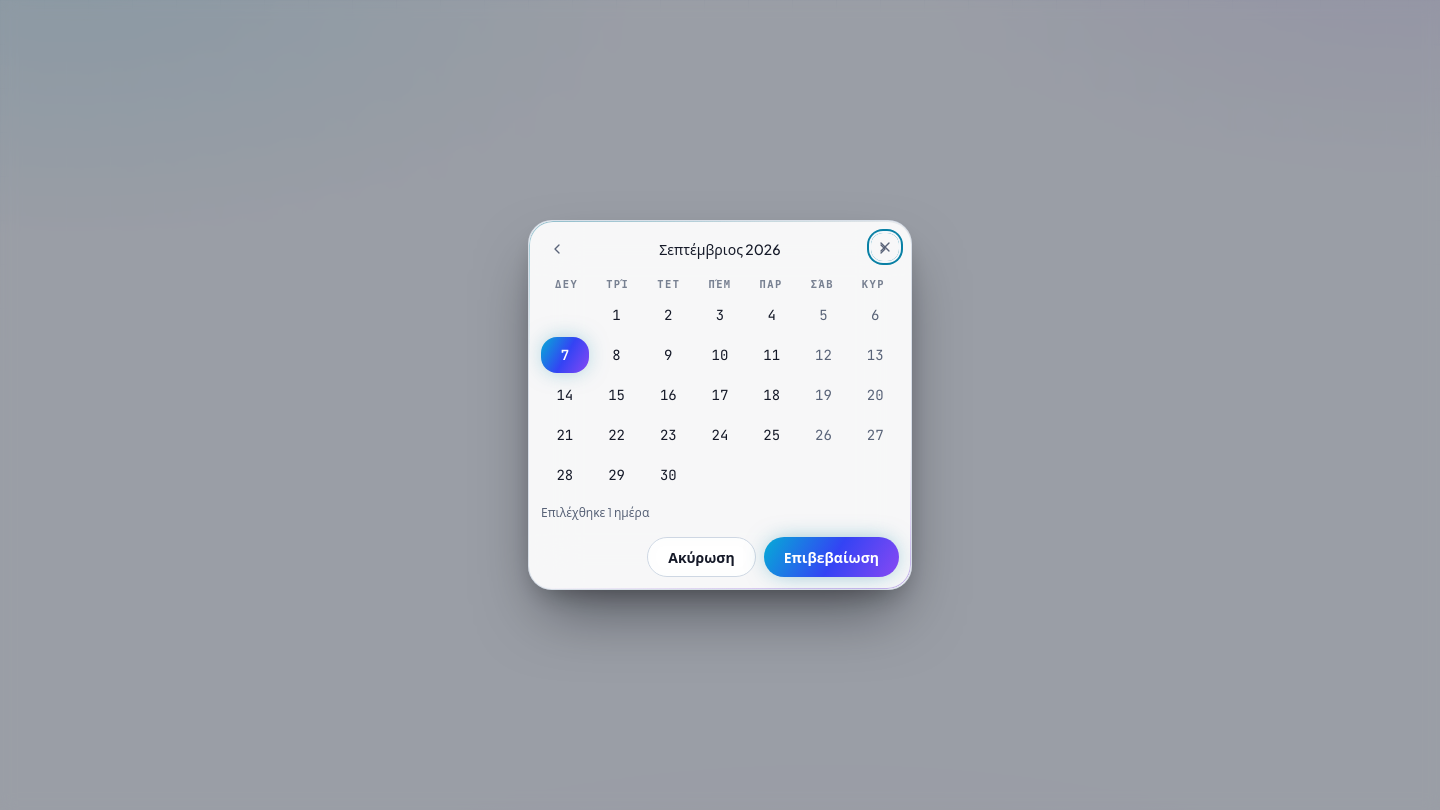
Test: CalendarDialog › renders in Greek with Greek date labels and a pluralized selection count
The width and height of the screenshot is (1440, 810).
Click the button "8": (617,355) 593,337 -> 640,373
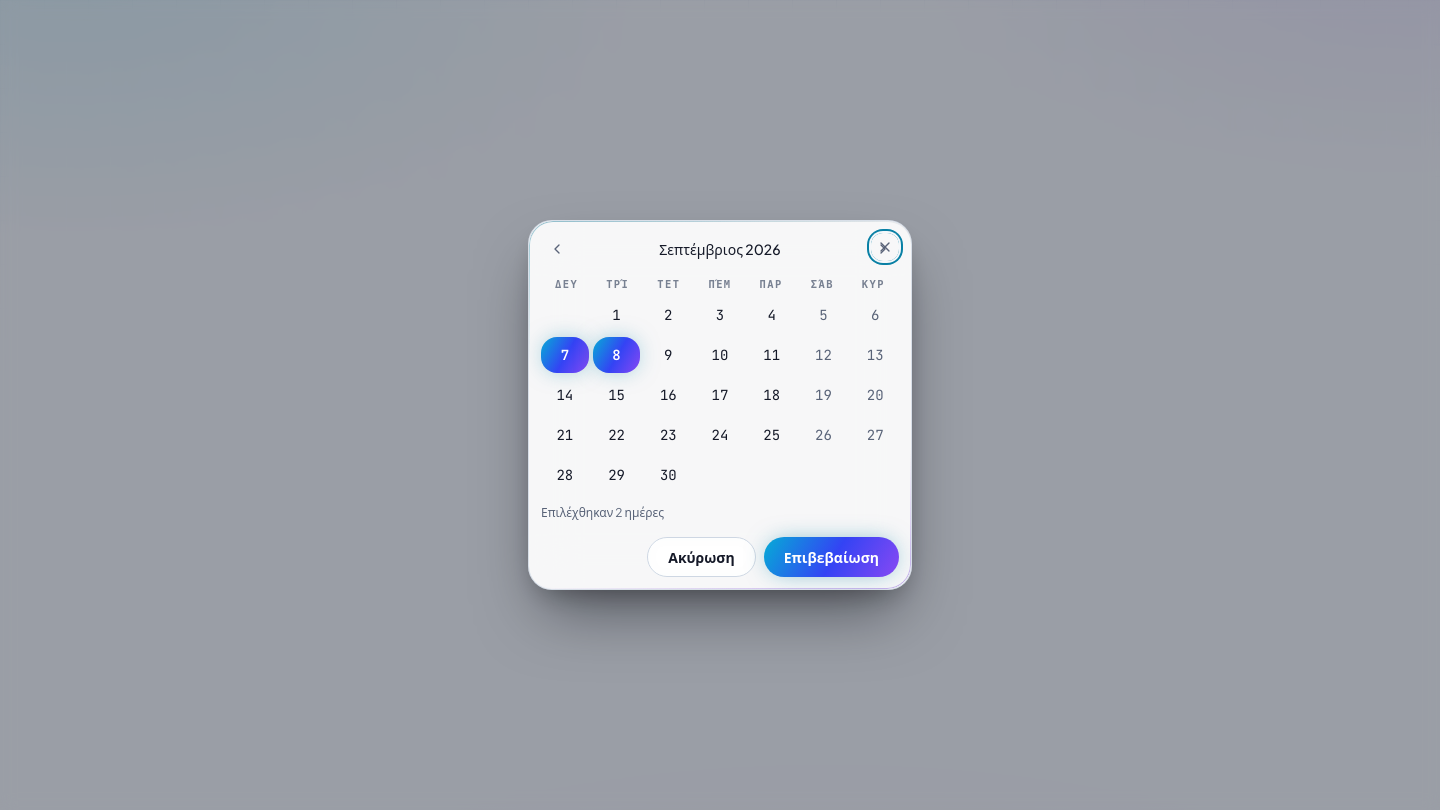
Check: the text "Επιλέχθηκαν 2 ημέρες" is shown, box 541,505 -> 664,520
